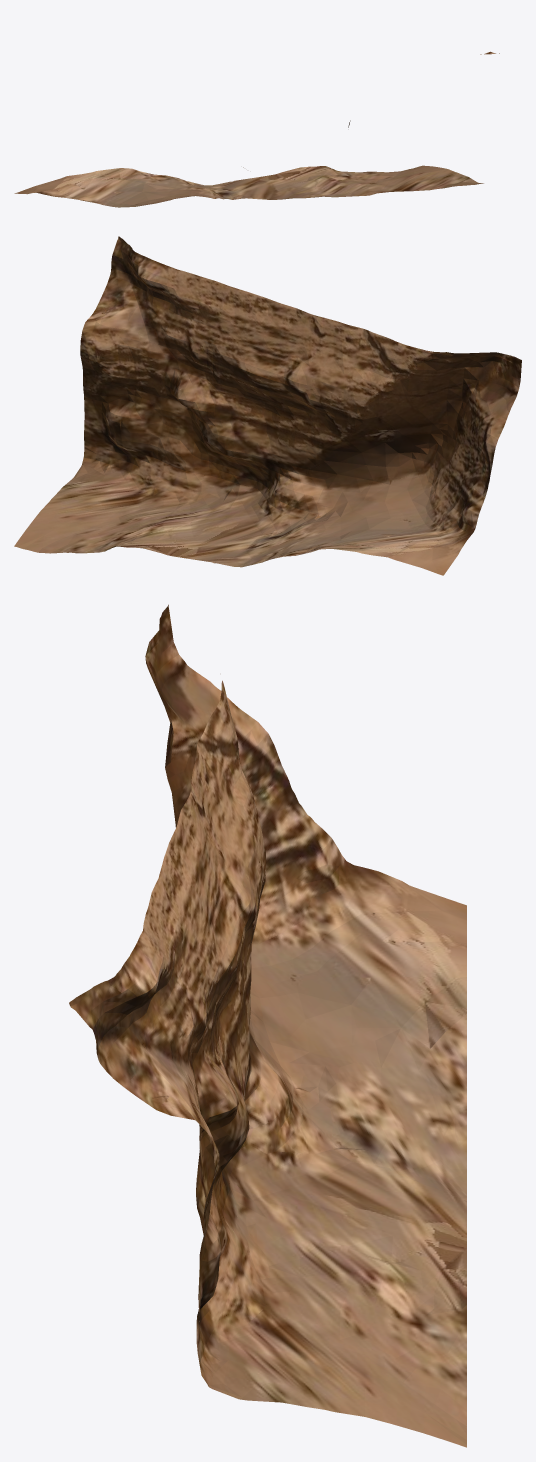
3 views of the same model, one above another, from view 1: azimuth 30°, elevation 25°; view 2: azimuth 150°, elevation 25°; view 3: azimuth 270°, elevation 25° (orthographic). The views are drawn at different scales.
Bounding box in the file's own units: 1.04 × 0.5443 × 0.4404.
2 materials, 2 textured.
